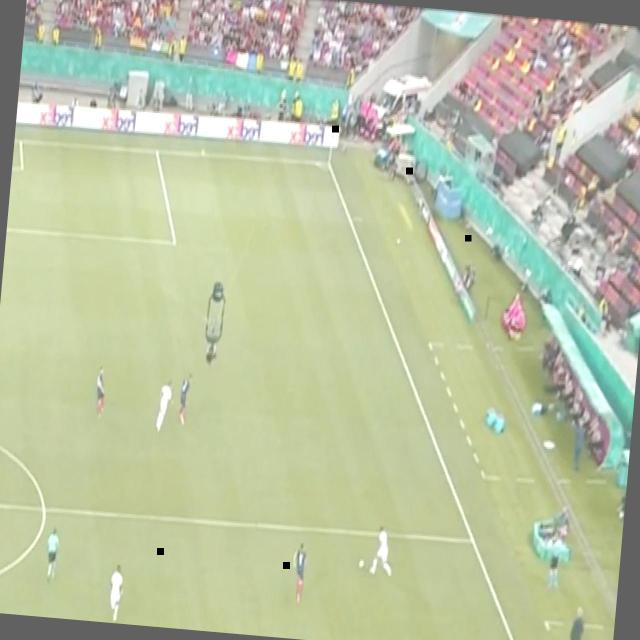ball: (357, 558, 365, 570)
player-white: (369, 521, 397, 581), (544, 525, 568, 595), (288, 536, 310, 610), (152, 375, 178, 437), (105, 560, 129, 624), (42, 522, 64, 588), (176, 368, 196, 428), (92, 363, 110, 421), (183, 628, 200, 630)
